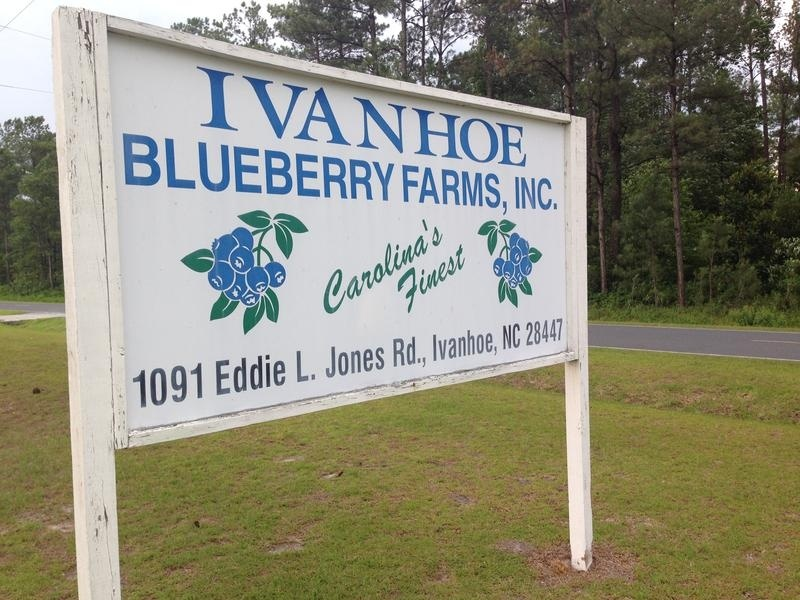text: (337, 206, 352, 323), (353, 206, 368, 323), (369, 206, 384, 323), (385, 206, 400, 323), (401, 206, 416, 323), (417, 206, 432, 323), (433, 206, 448, 323), (322, 206, 336, 323), (209, 66, 224, 169), (225, 66, 240, 169), (241, 66, 256, 169), (257, 66, 272, 169), (273, 66, 288, 169), (289, 66, 304, 169), (305, 66, 320, 169), (321, 66, 336, 169), (337, 66, 352, 169), (353, 66, 368, 169), (369, 66, 384, 169), (385, 66, 400, 169), (401, 66, 416, 169), (417, 66, 432, 169), (433, 66, 448, 169), (449, 66, 464, 169), (465, 66, 480, 169), (481, 66, 496, 169), (497, 66, 512, 169), (513, 66, 528, 169), (195, 66, 208, 169), (401, 242, 416, 319), (417, 242, 432, 319), (433, 242, 448, 319), (449, 242, 464, 319), (129, 132, 144, 203), (145, 132, 160, 203), (161, 132, 176, 203), (177, 132, 192, 203), (193, 132, 208, 203), (209, 132, 224, 203), (225, 132, 240, 203), (241, 132, 256, 203), (257, 132, 272, 203), (273, 132, 288, 203), (289, 132, 304, 203), (305, 132, 320, 203), (321, 132, 336, 203), (337, 132, 352, 203), (353, 132, 368, 203), (369, 132, 384, 203), (385, 132, 397, 203), (401, 165, 416, 217), (417, 165, 432, 217), (433, 165, 448, 217), (449, 165, 464, 217), (465, 165, 480, 217), (481, 165, 496, 217), (145, 361, 160, 410), (161, 361, 176, 410), (177, 361, 192, 410), (225, 351, 240, 397), (241, 351, 256, 397), (257, 351, 272, 397), (273, 351, 287, 397), (131, 361, 144, 410), (497, 165, 509, 217), (193, 361, 205, 410), (433, 326, 448, 363), (449, 326, 464, 363), (465, 326, 480, 363), (481, 326, 496, 363), (529, 176, 544, 211), (337, 345, 352, 380), (353, 345, 368, 380), (369, 345, 384, 380), (401, 336, 416, 369), (514, 176, 528, 211), (545, 176, 559, 211), (305, 350, 318, 386), (465, 242, 471, 319), (122, 132, 128, 203), (529, 318, 544, 346), (545, 318, 560, 346), (216, 351, 224, 397), (326, 345, 336, 380), (417, 336, 427, 369), (396, 242, 400, 319), (296, 350, 304, 386), (502, 323, 512, 351), (513, 323, 522, 351), (394, 336, 400, 369), (526, 318, 528, 346), (561, 318, 563, 346), (431, 326, 432, 363), (385, 345, 386, 380)
